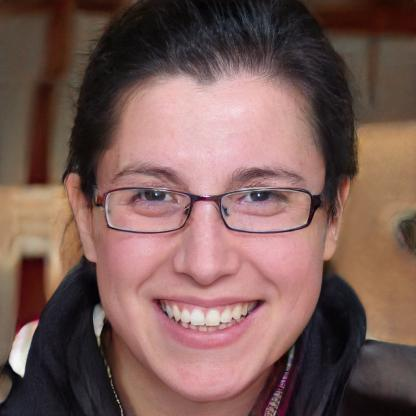glasses: (96, 181, 324, 239)
